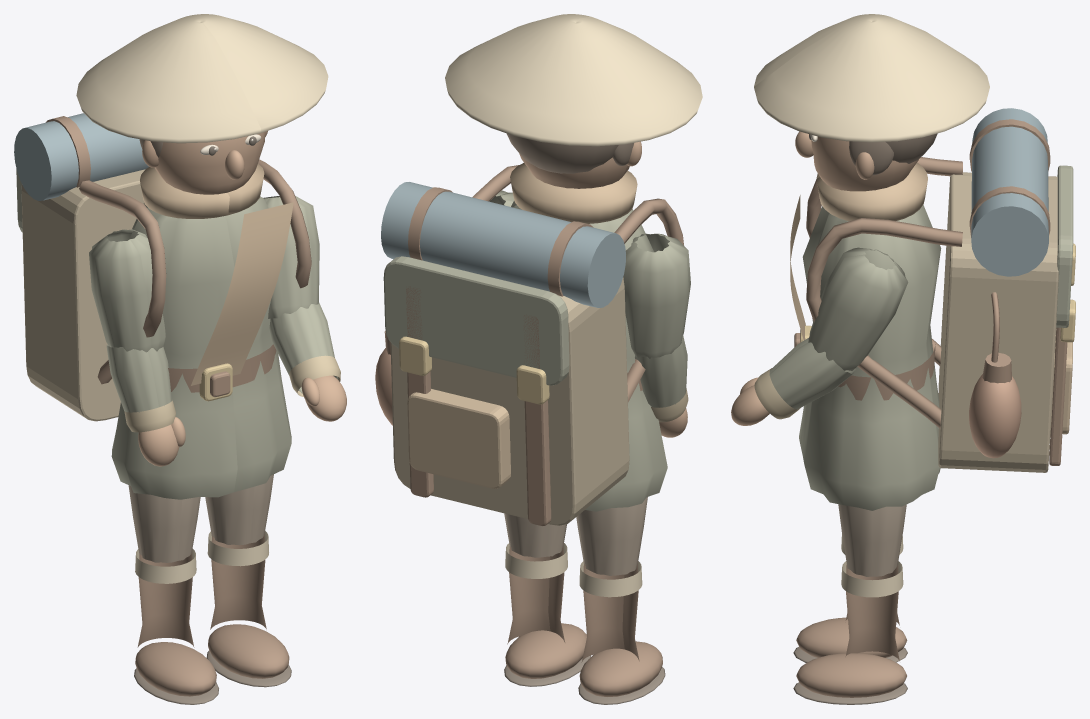
Rendered from character-pedagang.glb.
3 renders of one model, left to right at view 1: azimuth 30°, elevation 25°; view 2: azimuth 150°, elevation 25°; view 3: azimuth 270°, elevation 25°, orthographic. The views are drawn at different scales.
Visible parts, largest first — view 1: Group_1, Group_76, Group_101, Group_11, Group_21, Group_118, Group_96, Group_29, Group_31, Group_40, Group_47, Group_9 (+2 smaller); view 2: Group_101, Group_76, Group_118, Group_1, Group_11, Group_21, Group_29, Group_47, Group_9, Group_31, Group_19, Group_124; view 3: Group_1, Group_101, Group_76, Group_118, Group_21, Group_38, Group_47, Group_40, Group_124, Group_19, Group_11, Group_96.
Part boxes in pixels (x1,y1,x2,y2): Group_1: (79, 159, 311, 499); Group_76: (76, 14, 328, 143); Group_101: (16, 169, 145, 421); Group_11: (134, 548, 218, 704); Group_21: (206, 531, 291, 687); Group_118: (14, 113, 148, 200); Group_96: (191, 202, 293, 385); Group_29: (89, 229, 165, 352); Group_31: (106, 345, 185, 466); Group_40: (269, 302, 346, 421); Group_47: (139, 131, 267, 194); Group_9: (128, 485, 200, 562); Group_101: (383, 256, 629, 525); Group_76: (445, 14, 702, 146); Group_118: (381, 182, 625, 307); Group_1: (472, 163, 683, 511); Group_11: (578, 561, 665, 704); Group_21: (504, 542, 590, 686); Group_29: (623, 233, 690, 358); Group_47: (506, 133, 641, 188); Group_9: (576, 497, 647, 575); Group_31: (635, 335, 688, 437); Group_19: (504, 513, 566, 557); Group_124: (375, 330, 392, 425); Group_1: (794, 157, 962, 510); Group_101: (938, 165, 1075, 472); Group_76: (754, 14, 989, 142); Group_118: (969, 108, 1050, 276); Group_21: (793, 561, 907, 704); Group_38: (808, 247, 908, 370); Group_47: (795, 131, 937, 191); Group_40: (731, 338, 856, 425); Group_124: (969, 352, 1021, 458); Group_19: (838, 504, 906, 576); Group_11: (793, 534, 907, 662); Group_96: (790, 195, 805, 340).
Size of the model in its own units: 0.7794 by 2 by 0.9561.
